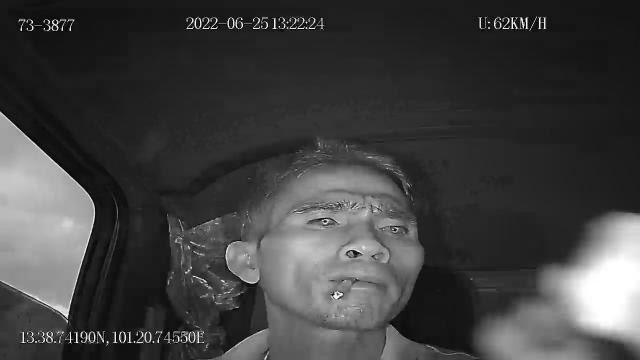SafeDriving: (298, 206, 348, 234), (369, 215, 416, 239)
Smoking: (331, 277, 357, 299)
